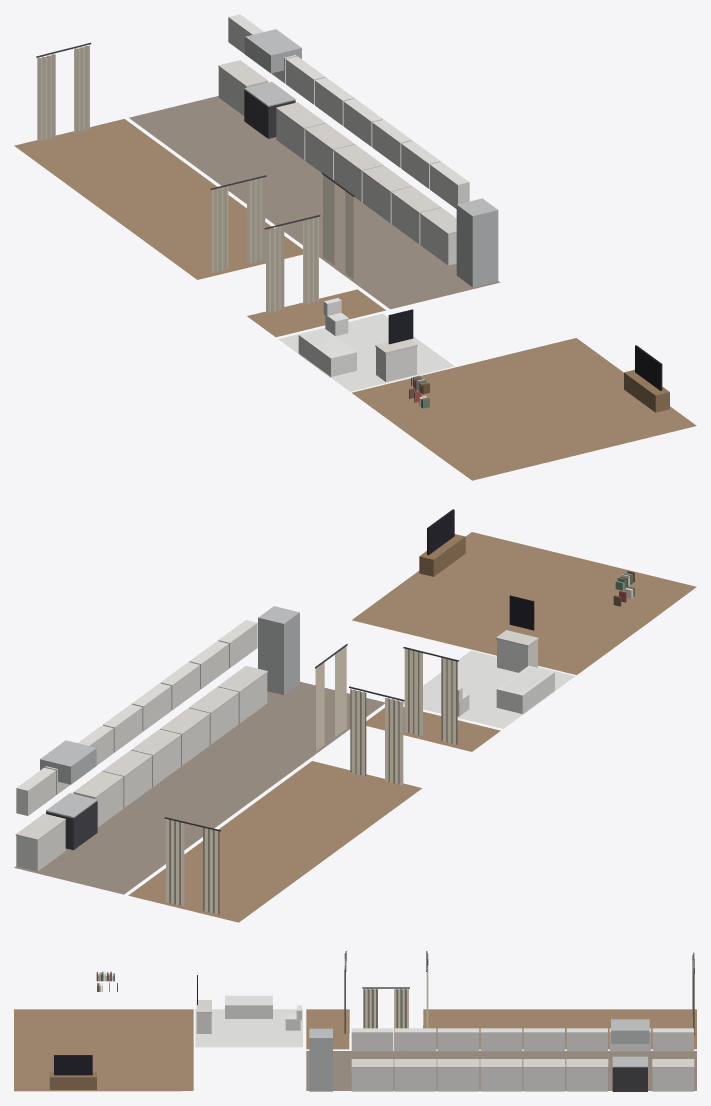
File: fine-s1.glb
3 views of the same model, one above another, from view 1: azimuth 30°, elevation 25°; view 2: azimuth 150°, elevation 25°; view 3: azimuth 270°, elevation 25° (orthographic). The views are drawn at different scales.
Parts seen in each view (by area): view 1: soft-s1, fridge.000, range.000, vanity.000, bathtub.000, tv-console.001, counter-run.006, counter-run.001, counter-run.004, counter-run.005, counter-run.002, counter-run.003 (+9 smaller); view 2: soft-s1, range.000, fridge.000, vanity.000, counter-run.000, bathtub.000, tv-console.001, counter-run.006, counter-run.005, counter-run.002, counter-run.004, counter-run.003 (+8 smaller); view 3: soft-s1, range.000, fridge.000, tv-console.001, counter-run.003, counter-run.004, counter-run.005, counter-run.006, counter-run.000, counter-run.001, counter-run.002, bathtub.000 (+10 smaller).
Part boxes in pixels (x1,y1,x2,y2): soft-s1: (14,42,696,480); fridge.000: (456,198,498,287); range.000: (244,29,301,138); vanity.000: (375,309,417,381); bathtub.000: (298,328,356,377); tv-console.001: (624,345,669,412); counter-run.006: (420,207,456,265); counter-run.001: (276,102,325,160); counter-run.004: (362,165,412,223); counter-run.005: (391,186,441,244); counter-run.002: (304,123,354,179); counter-run.003: (333,144,383,202); soft-s1: (14,532,696,922); range.000: (40,740,97,850); fridge.000: (258,606,299,694); vanity.000: (496,595,538,672); counter-run.000: (15,813,65,871); bathtub.000: (496,665,554,714); tv-console.001: (419,509,465,576); counter-run.006: (217,666,267,723); counter-run.005: (189,687,238,744); counter-run.002: (102,750,152,807); counter-run.004: (160,708,210,765); counter-run.003: (131,729,181,786); soft-s1: (14,951,696,1091); range.000: (611,1019,649,1091); fridge.000: (309,1028,332,1091); tv-console.001: (49,1055,96,1089); counter-run.003: (480,1059,522,1091); counter-run.004: (437,1059,479,1091); counter-run.005: (394,1059,436,1091); counter-run.006: (351,1059,393,1091); counter-run.000: (652,1059,694,1091); counter-run.001: (566,1059,608,1091); counter-run.002: (523,1059,565,1091); bathtub.000: (225,995,272,1018).
Bounding box in the file's own units: 6.7 × 2.41 × 23.05.
